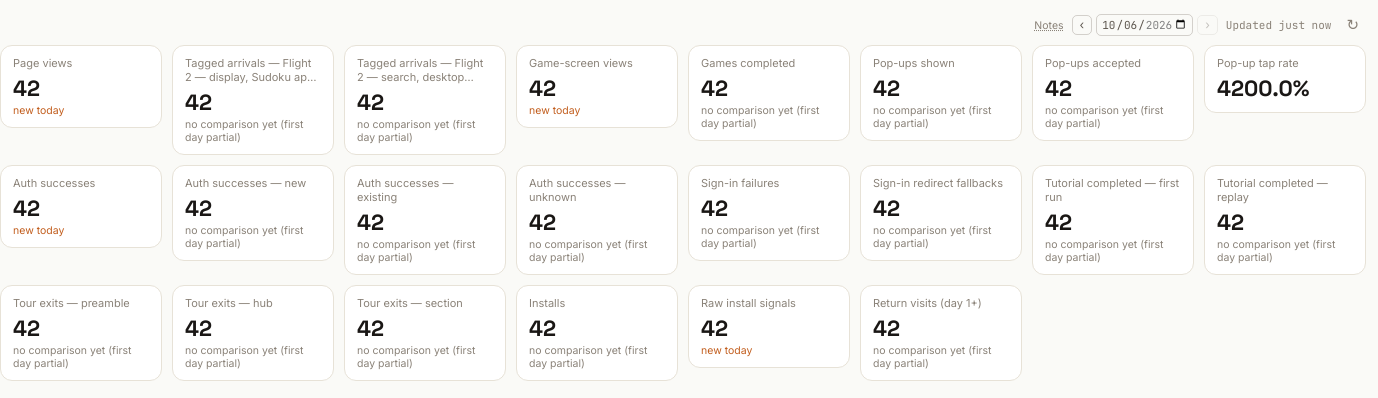
Test: MetricCard day selector › previous day: reads the day before (context.day), no "Updated Ns ago", and reports the day
The width and height of the screenshot is (1378, 398).
What coordinates should you click on to do the following:
click the button named "Previous day"
I would click on:
 (1082, 24)
Its box is [1072,14,1092,34].
Wait 100 ms
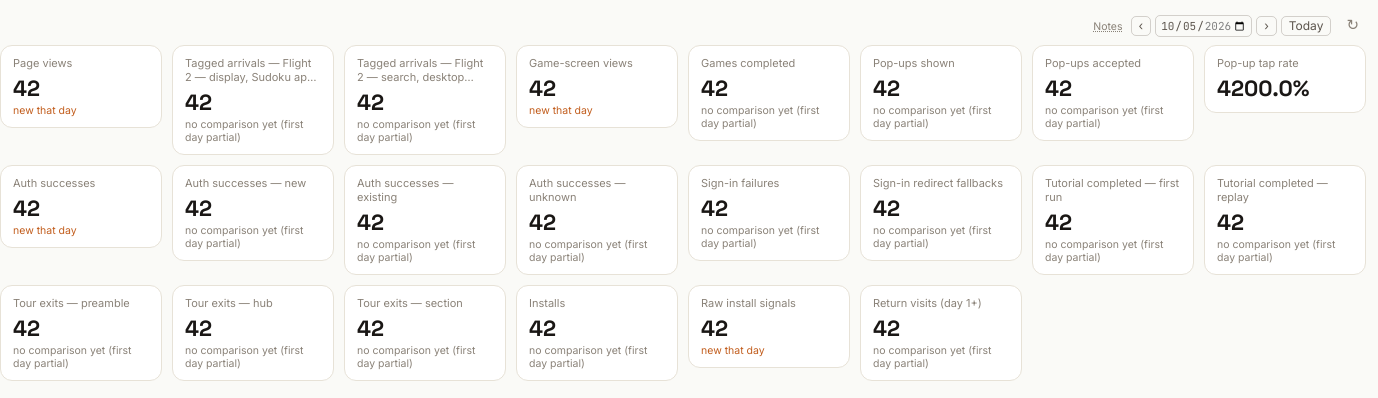
Check: the button with class "mc-reload" is shown, box [1339,12,1366,37]
Check: the button named "Next day" is enabled, box [1256,16,1277,36]
Check: the date field named "Day: Mon Oct 5" holds "2026-10-05", box [1155,15,1252,37]
